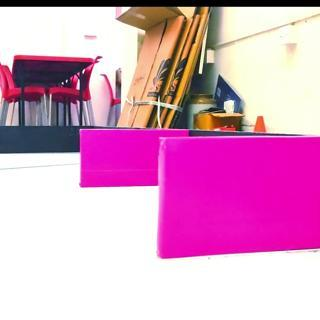xparking: (161, 134, 320, 250), (81, 127, 156, 185)
